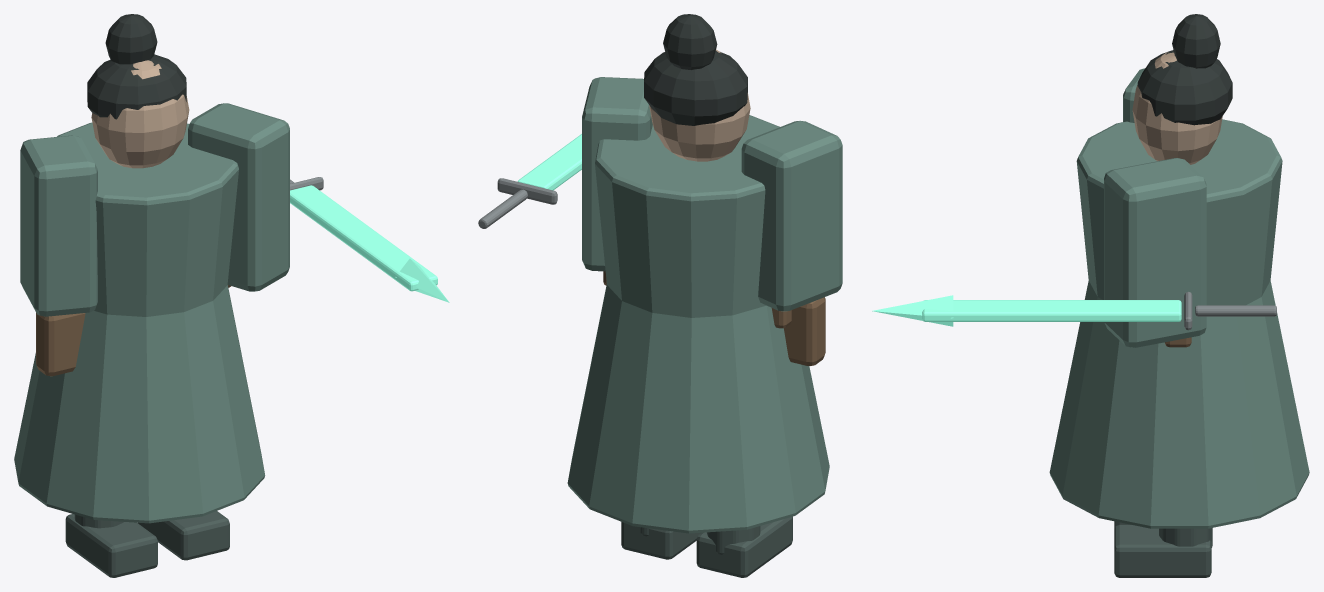
Rendered from chr_player_qi_refining_a.glb.
The picture shows the model from 3 angles, left to right: view 1: azimuth 30°, elevation 25°; view 2: azimuth 150°, elevation 25°; view 3: azimuth 270°, elevation 25°; orthographic projection. The views are drawn at different scales.
Visible parts, largest first — view 1: player_robe_lower, player_torso, player_sleeve_l, player_sleeve_r, player_head, player_flying_sword_blade, player_hair_cap, player_leg_l_boot, player_leg_r_boot, player_talisman_pouch, player_hair_bun, player_flying_sword_tip; view 2: player_robe_lower, player_torso, player_sleeve_l, player_sleeve_r, player_hair_cap, player_head, player_leg_l_boot, player_hair_bun, player_talisman_pouch, player_leg_r_boot, player_flying_sword_blade, player_flying_sword_guard (+2 smaller); view 3: player_robe_lower, player_torso, player_sleeve_r, player_flying_sword_blade, player_hair_cap, player_leg_r_boot, player_head, player_hair_bun, player_flying_sword_tip, player_flying_sword_grip, player_leg_r.
Boxes of the visible parts, x1,y1,x2,y2 form: player_robe_lower: [14, 285, 265, 523]; player_torso: [57, 122, 238, 316]; player_sleeve_l: [20, 135, 97, 316]; player_sleeve_r: [188, 103, 289, 291]; player_head: [91, 60, 189, 168]; player_flying_sword_blade: [290, 185, 437, 291]; player_hair_cap: [87, 54, 186, 119]; player_leg_l_boot: [65, 514, 157, 577]; player_leg_r_boot: [138, 511, 229, 560]; player_talisman_pouch: [36, 313, 85, 376]; player_hair_bun: [105, 14, 157, 64]; player_flying_sword_tip: [395, 258, 449, 302]; player_robe_lower: [567, 284, 829, 533]; player_torso: [595, 115, 779, 317]; player_sleeve_l: [741, 120, 842, 311]; player_sleeve_r: [582, 77, 652, 271]; player_hair_cap: [644, 50, 747, 125]; player_head: [649, 49, 750, 161]; player_leg_l_boot: [696, 516, 792, 577]; player_hair_bun: [663, 14, 717, 69]; player_talisman_pouch: [783, 297, 825, 365]; player_leg_r_boot: [621, 522, 700, 559]; player_flying_sword_blade: [517, 134, 581, 190]; player_flying_sword_guard: [497, 178, 557, 204]; player_robe_lower: [1049, 281, 1309, 528]; player_torso: [1076, 119, 1282, 305]; player_sleeve_r: [1104, 158, 1206, 347]; player_flying_sword_blade: [922, 300, 1181, 321]; player_hair_cap: [1137, 50, 1232, 125]; player_leg_r_boot: [1114, 524, 1211, 577]; player_head: [1132, 52, 1222, 164]; player_hair_bun: [1172, 14, 1220, 68]; player_flying_sword_tip: [872, 295, 953, 326]; player_flying_sword_grip: [1195, 305, 1276, 316]; player_leg_r: [1159, 528, 1212, 547].
Bounding box in the file's own units: 1.2 × 1.93 × 1.44.
